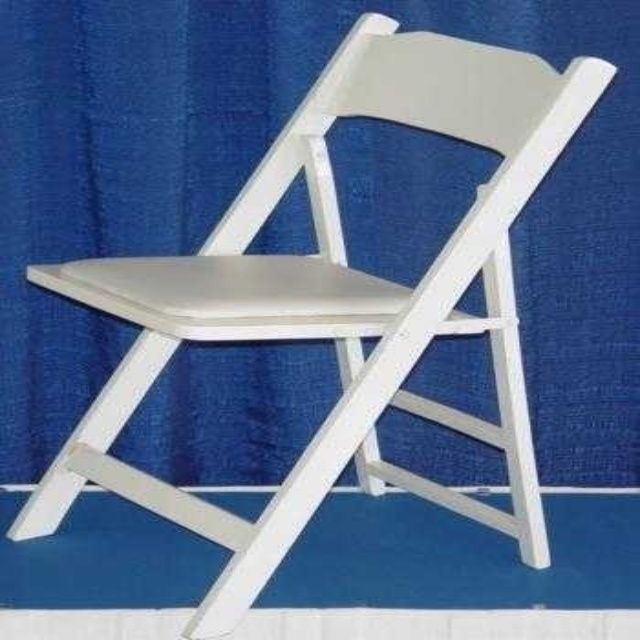obstacle: (9, 13, 613, 639)
